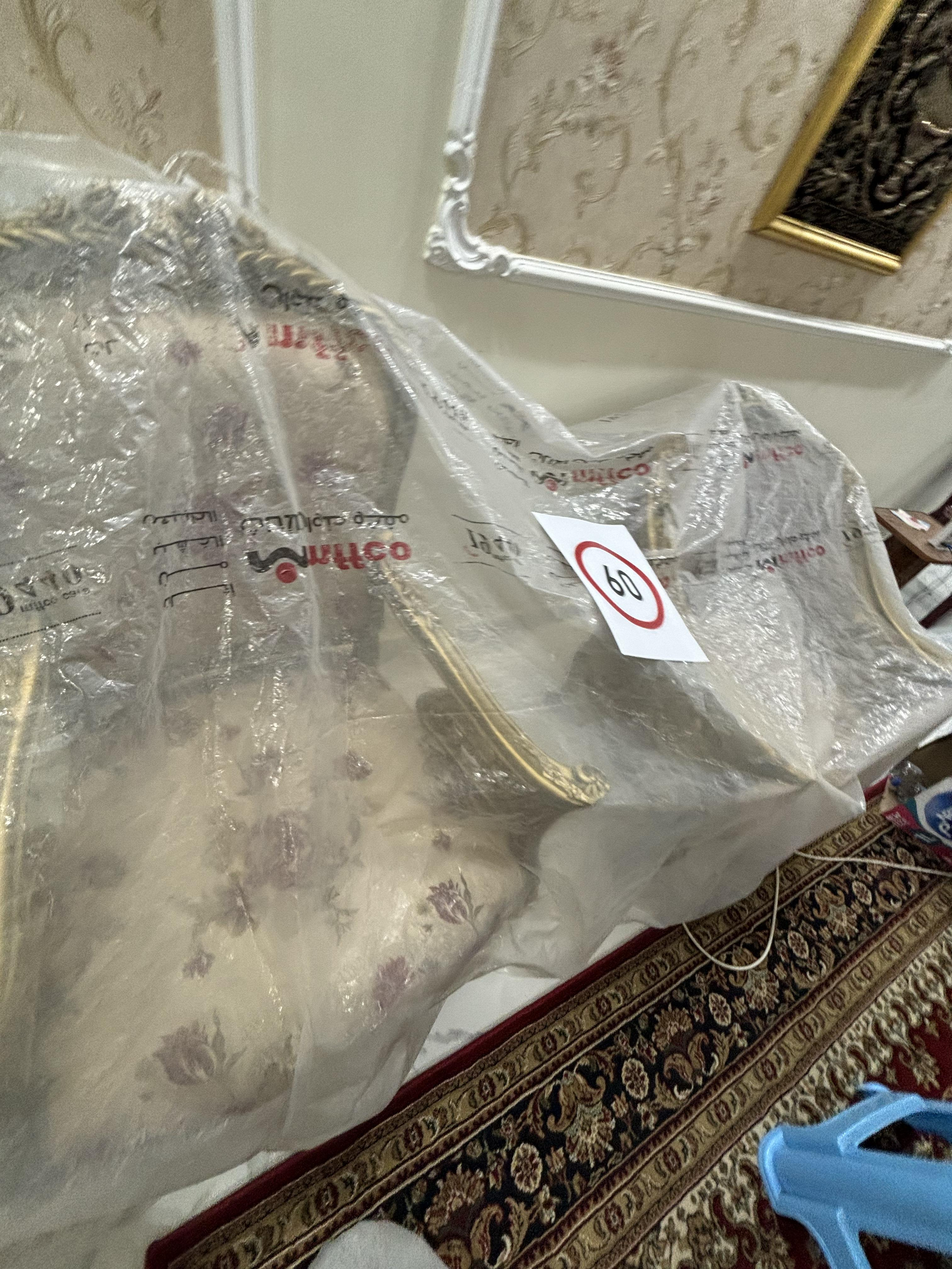60-Speed: (573, 536, 669, 634)
